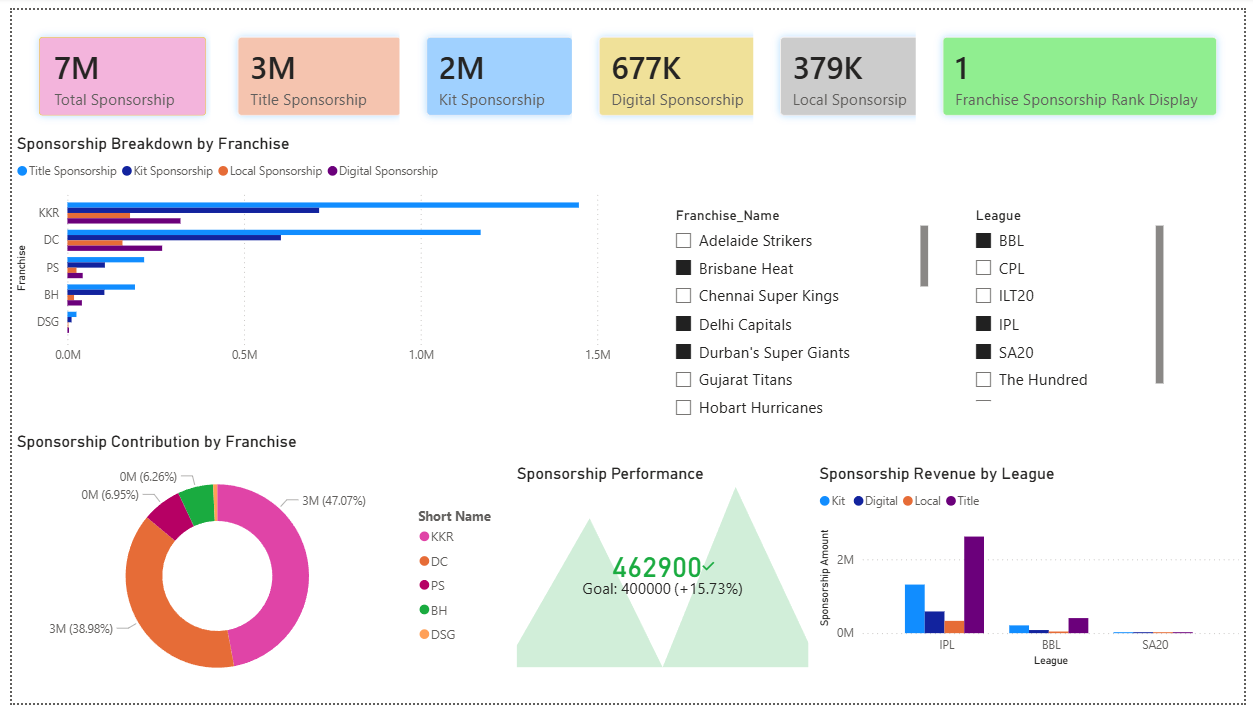

This screenshot's page, from the dashboard's own definition file:
{"tool":"powerbi","page":{"name":"Sponsorship","canvas":[1280,720],"ordinal":2},"visuals":[{"type":"cardVisual","fields":{"Data":["attendance_fact (1).Total Sponsorship"]},"box":[0,0,230,138],"z":0},{"type":"slicer","fields":{"Values":["franchise_dimen.Franchise_Name"]},"box":[676.7,200,280,238.3],"z":1000},{"type":"slicer","fields":{"Values":["league_dimen.League"]},"box":[988.3,200,213.3,211.7],"z":2000},{"type":"cardVisual","fields":{"Data":["attendance_fact (1).Title Sponsorship"]},"box":[206,0,226,138],"z":3000},{"type":"cardVisual","fields":{"Data":["attendance_fact (1).Kit Sponsorship"]},"box":[402,0,208,138],"z":4000},{"type":"cardVisual","fields":{"Data":["attendance_fact (1).Digital Sponsorship"]},"box":[582,0,224,138],"z":5000},{"type":"cardVisual","fields":{"Data":["attendance_fact (1).Local Sponsorsip"]},"box":[770,0,218.3,138.3],"z":6000},{"type":"clusteredBarChart","title":"Sponsorship Breakdown by Franchise","fields":{"Y":["Sum(sponsorship_fact.Title_Sponsorship)","Sum(sponsorship_fact.Kit_Sponsorship)","Sum(sponsorship_fact.Local_Sponsorship)","Sum(sponsorship_fact.Digital_Sponsorship)"],"Category":["franchise_dimen.Short_Name"]},"box":[0,128,664,258],"z":7000},{"type":"donutChart","title":"Sponsorship Contribution by Franchise","fields":{"Y":["Sum(sponsorship_fact.Total_Sponsorship)"],"Category":["franchise_dimen.Short_Name"]},"box":[0,438,520,282],"z":8000},{"type":"clusteredColumnChart","title":"Sponsorship Revenue by League","fields":{"Category":["league_dimen.League"],"Y":["Sum(sponsorship_fact.Kit_Sponsorship)","Sum(sponsorship_fact.Digital_Sponsorship)","Sum(sponsorship_fact.Local_Sponsorship)","Sum(sponsorship_fact.Title_Sponsorship)"]},"box":[834,472,446,216],"z":9000},{"type":"kpi","title":"Sponsorship Performance","fields":{"Indicator":["Sum(sponsorship_fact.Total_Sponsorship)"],"Goal":["attendance_fact.Sponsorship Target"],"TrendLine":["franchise_dimen.Franchise_Name"]},"box":[520,471.7,313.3,216.7],"z":10000},{"type":"cardVisual","fields":{"Data":["attendance_fact.Franchise Sponsorship Rank Display"]},"box":[938.3,0,341.7,138.3],"z":11000}]}

Visuals, with their boxes in screenshot pixels (x1, y1, x2, y2), scaled from the page's 1280x720 canvas onto the 1253x710 screenshot:
cardVisual - attendance_fact (1).Total Sponsorship: detection(0, 0, 225, 136)
slicer - franchise_dimen.Franchise_Name: detection(662, 197, 937, 432)
slicer - league_dimen.League: detection(967, 197, 1176, 406)
cardVisual - attendance_fact (1).Title Sponsorship: detection(202, 0, 423, 136)
cardVisual - attendance_fact (1).Kit Sponsorship: detection(394, 0, 597, 136)
cardVisual - attendance_fact (1).Digital Sponsorship: detection(570, 0, 789, 136)
cardVisual - attendance_fact (1).Local Sponsorsip: detection(754, 0, 967, 136)
"Sponsorship Breakdown by Franchise" clusteredBarChart: detection(0, 126, 650, 381)
"Sponsorship Contribution by Franchise" donutChart: detection(0, 432, 509, 709)
"Sponsorship Revenue by League" clusteredColumnChart: detection(816, 465, 1252, 678)
"Sponsorship Performance" kpi: detection(509, 465, 816, 679)
cardVisual - attendance_fact.Franchise Sponsorship Rank Display: detection(919, 0, 1252, 136)
